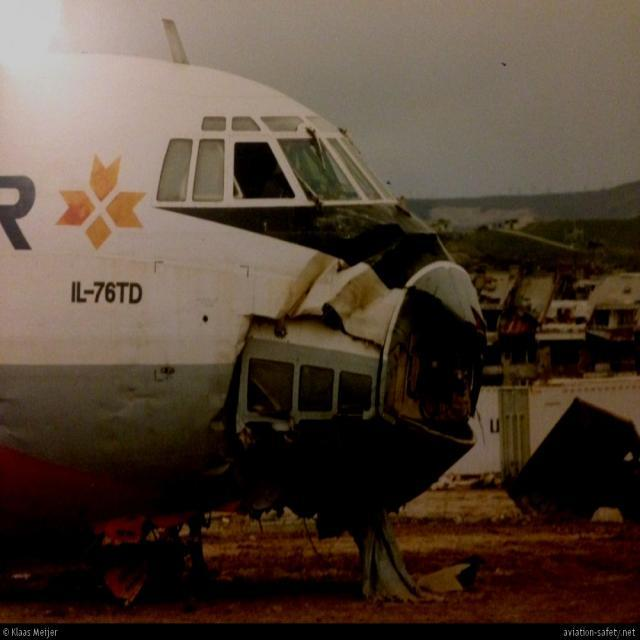dent: (203, 458, 232, 477), (211, 408, 230, 435)
